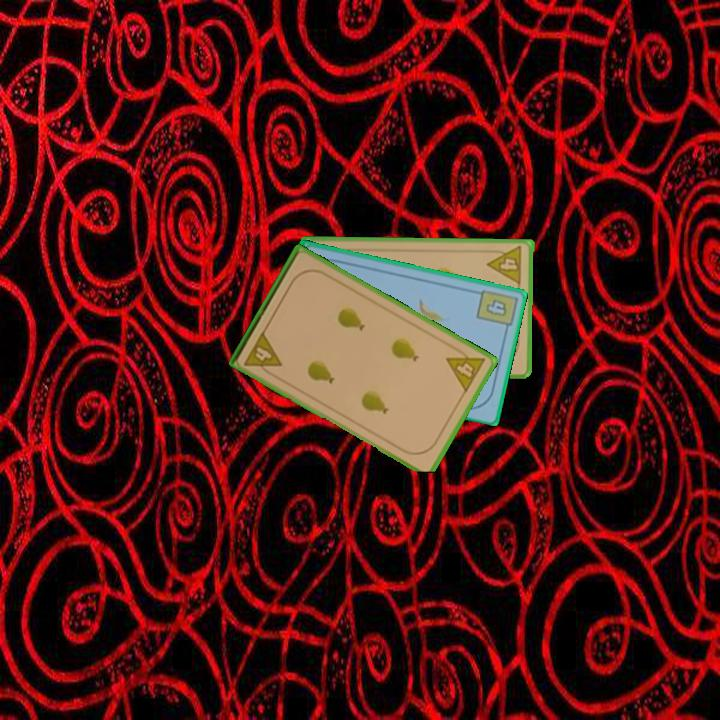4b: (473, 285, 519, 335)
4p: (443, 342, 489, 396), (240, 327, 285, 380), (485, 243, 525, 287)
